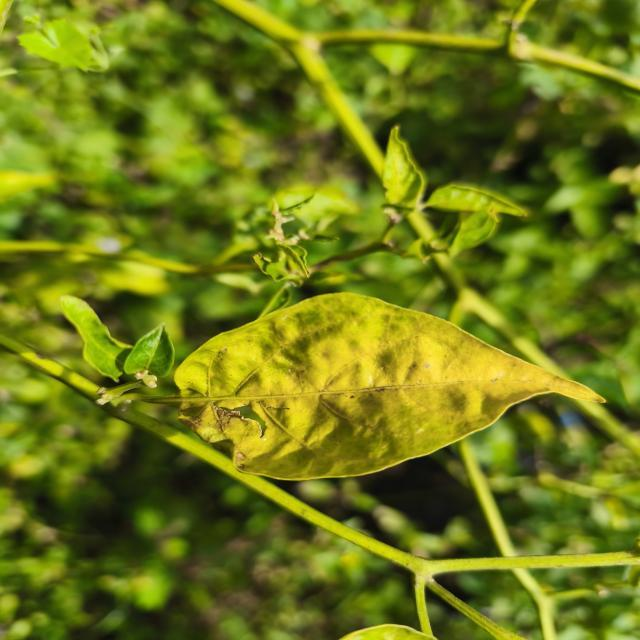Virus Kuning: (171, 290, 607, 482)
